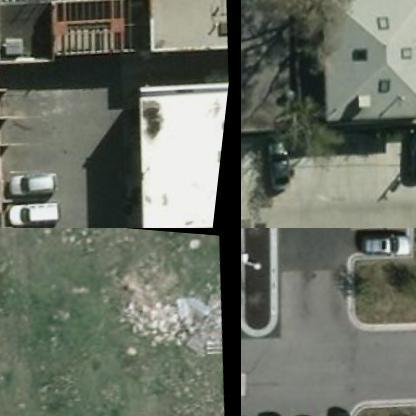car: (260, 135, 306, 192), (6, 159, 64, 198), (351, 228, 413, 259), (10, 194, 64, 227), (400, 120, 415, 182), (12, 219, 68, 227)
